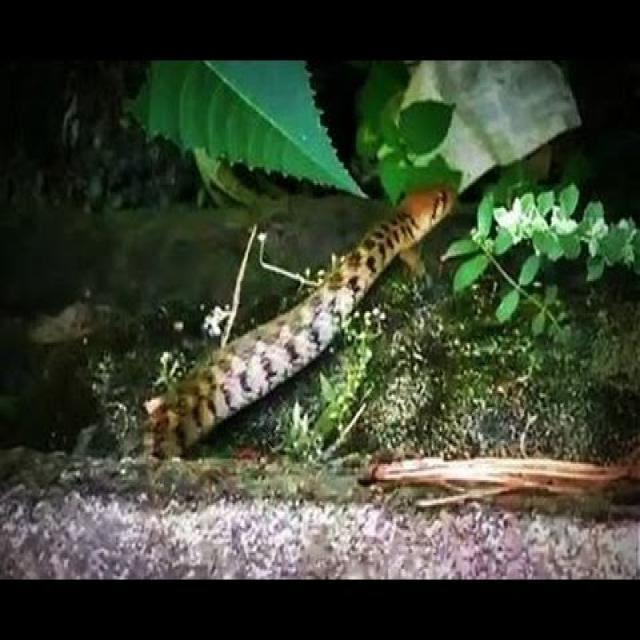Snake: (140, 182, 460, 460)
